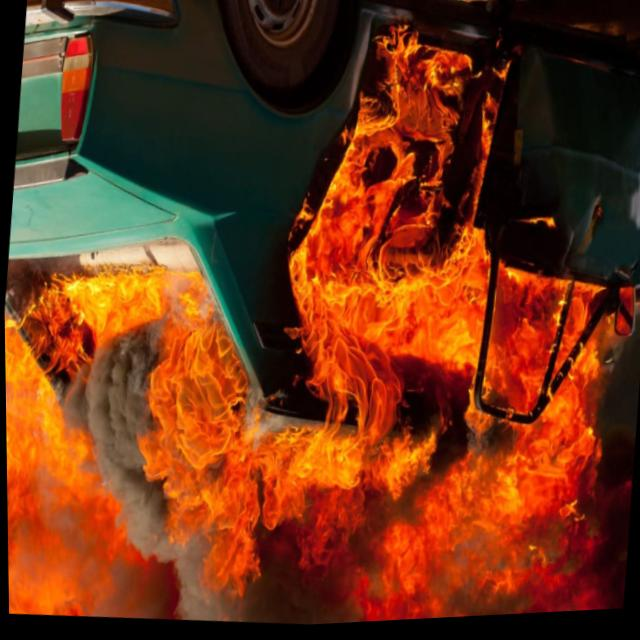Fire: (4, 224, 565, 605), (316, 30, 490, 258)
